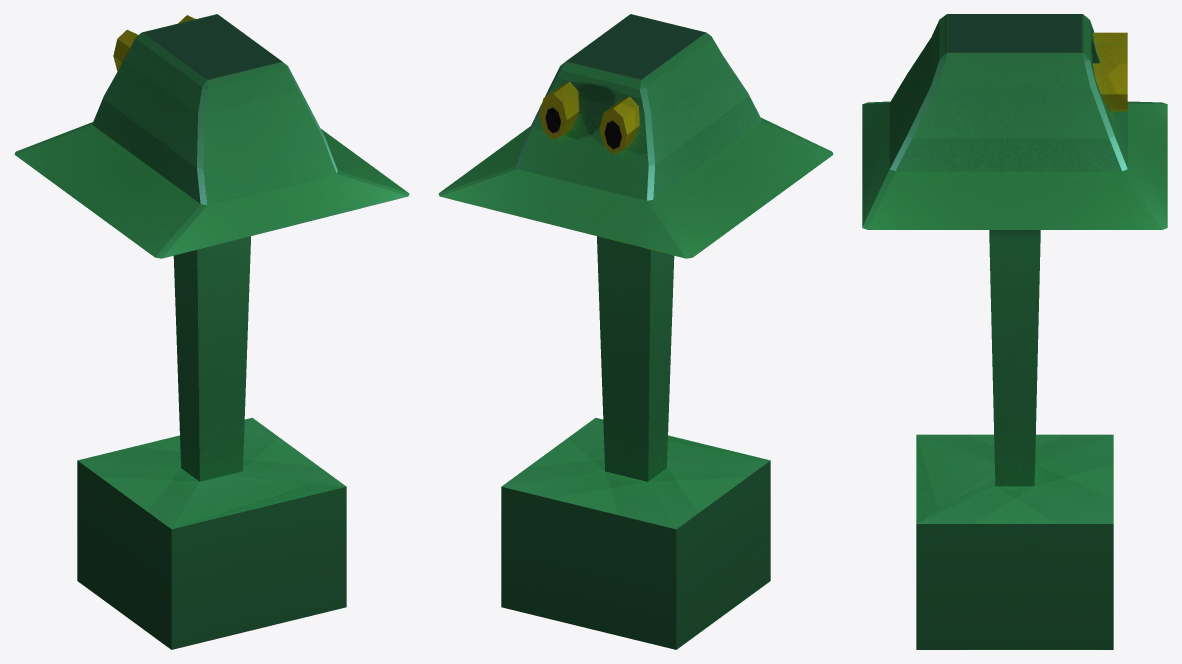
The model's file is player9.dae.
3 views of the same model, side by side, from view 1: azimuth 30°, elevation 25°; view 2: azimuth 150°, elevation 25°; view 3: azimuth 270°, elevation 25° (orthographic). The views are drawn at different scales.
Parts seen in each view (by area): view 1: player; view 2: player; view 3: player.
Boxes of the visible parts, left/top/right/bottom form: player: left=14, top=14, right=409, bottom=649; player: left=438, top=14, right=833, bottom=649; player: left=862, top=14, right=1167, bottom=649.
Bounding box in the file's own units: 2.01 × 2 × 4.13.
Materials: 1 (1 with a texture image).
